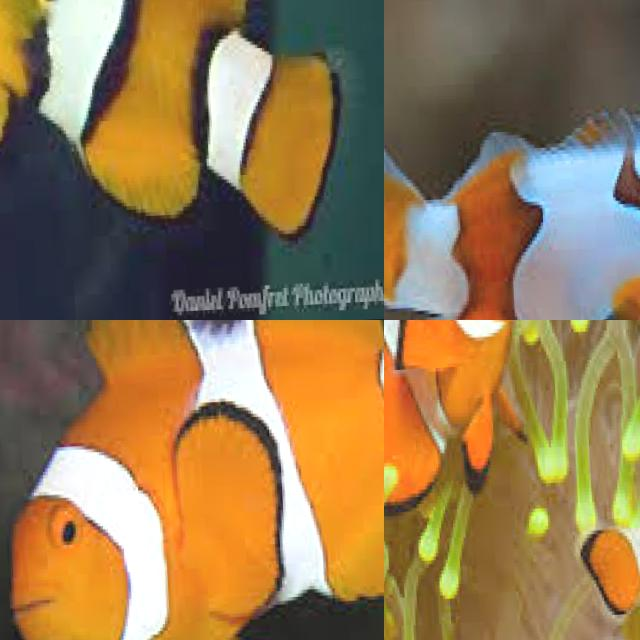Amphiprion-percula: (0, 320, 384, 640), (0, 0, 359, 300), (384, 54, 640, 320), (384, 320, 540, 527), (579, 343, 640, 640)
